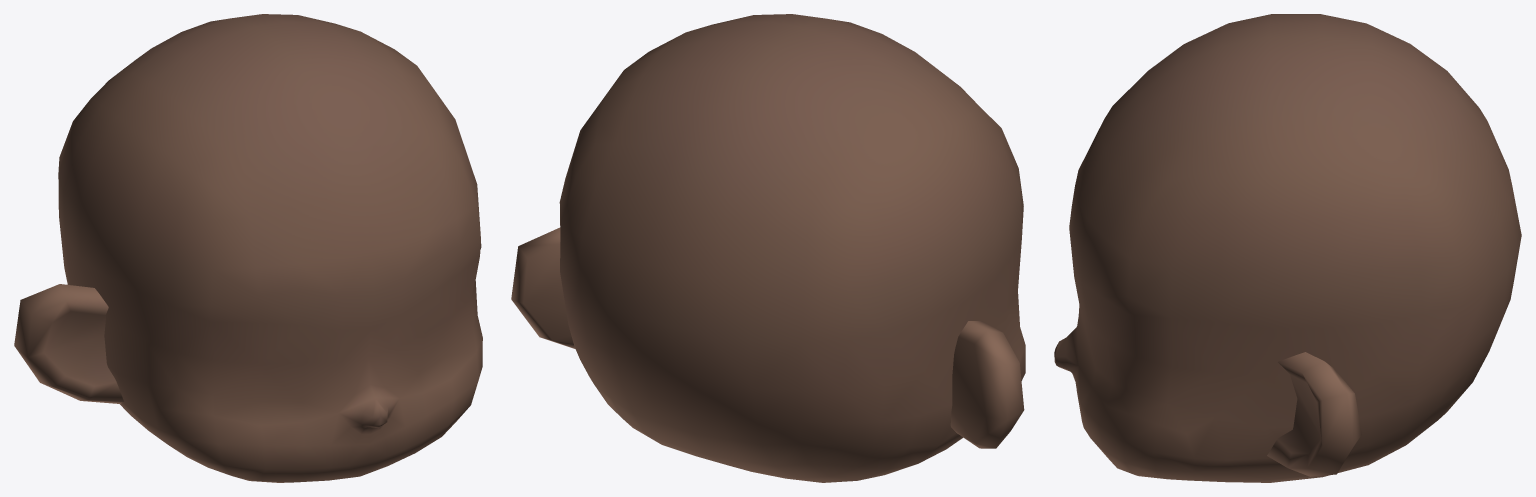
Rendered from Body_Black_Head_1.fbx.
3 views of the same model, side by side, from view 1: azimuth 30°, elevation 25°; view 2: azimuth 150°, elevation 25°; view 3: azimuth 270°, elevation 25° (orthographic). The views are drawn at different scales.
Visible parts, largest first — view 1: Body_Black_Head_1; view 2: Body_Black_Head_1; view 3: Body_Black_Head_1.
Part boxes in pixels (x1,y1,x2,y2): Body_Black_Head_1: [14, 14, 482, 482]; Body_Black_Head_1: [511, 14, 1025, 482]; Body_Black_Head_1: [1054, 14, 1521, 482].
Bounding box in the file's own units: 64.19 × 52.19 × 53.9.
